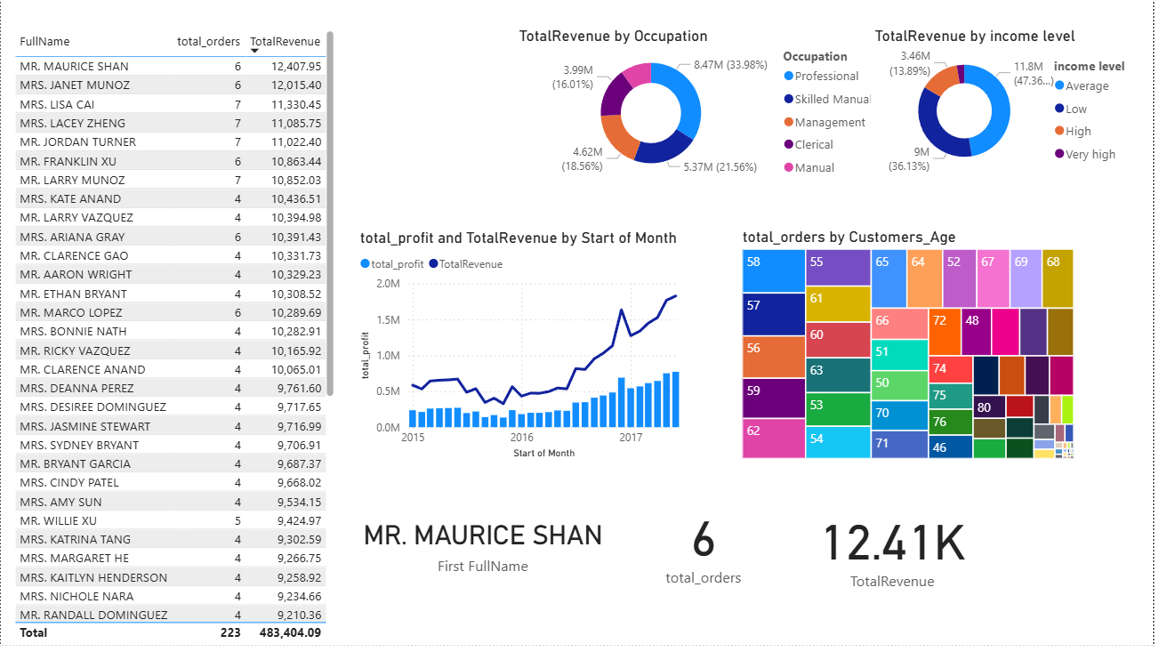

The dashboard page shown, as its layout file describes it:
{"tool":"powerbi","page":{"name":"Customer Report","canvas":[1280,720],"ordinal":4},"visuals":[{"type":"tableEx","fields":{"Values":["AW_Customers_lookup.FullName","AW_Sales_lookup.total_orders","AW_Sales_lookup.TotalRevenue"]},"box":[10,32.5,365,687.5],"z":0},{"type":"donutChart","fields":{"Y":["AW_Sales_lookup.TotalRevenue"],"Category":["AW_Customers_lookup.Occupation"]},"box":[570,32.5,411.2,173.8],"z":2000},{"type":"lineStackedColumnComboChart","fields":{"Y":["AW_Sales_lookup.total_profit"],"Category":["AW_Calendar_lookup.Start of Month"],"Y2":["AW_Sales_lookup.TotalRevenue"]},"box":[393.8,256.8,386.4,260.5],"z":3000},{"type":"treemap","fields":{"Values":["AW_Sales_lookup.total_orders"],"Group":["AW_Customers_lookup.Customers_Age"]},"box":[818.1,255.6,377.9,261.7],"z":4000},{"type":"card","fields":{"Values":["Min(AW_Customers_lookup.FullName)"]},"box":[375.4,533.2,320.4,144.3],"z":5000},{"type":"card","fields":{"Values":["AW_Sales_lookup.total_orders"]},"box":[681.2,533.8,197.5,143.8],"z":6000},{"type":"card","fields":{"Values":["AW_Sales_lookup.TotalRevenue"]},"box":[891.2,533.8,197.5,151.2],"z":7000},{"type":"donutChart","fields":{"Y":["AW_Sales_lookup.TotalRevenue"],"Category":["AW_Customers_lookup.income level"]},"box":[965,32.5,305,168.8],"z":8000}]}

Visuals, with their boxes in screenshot pixels (x1, y1, x2, y2), scaled from the page's 1280x720 canvas onto the 1157x646 screenshot:
tableEx - AW_Customers_lookup.FullName x AW_Sales_lookup.total_orders: 9,29,339,645
donutChart - AW_Sales_lookup.TotalRevenue x AW_Customers_lookup.Occupation: 515,29,887,185
lineStackedColumnComboChart - AW_Sales_lookup.total_profit x AW_Calendar_lookup.Start of Month: 356,230,705,464
treemap - AW_Sales_lookup.total_orders x AW_Customers_lookup.Customers_Age: 739,229,1081,464
card - Min(AW_Customers_lookup.FullName): 339,478,629,608
card - AW_Sales_lookup.total_orders: 616,479,794,608
card - AW_Sales_lookup.TotalRevenue: 806,479,984,615
donutChart - AW_Sales_lookup.TotalRevenue x AW_Customers_lookup.income level: 872,29,1148,181
